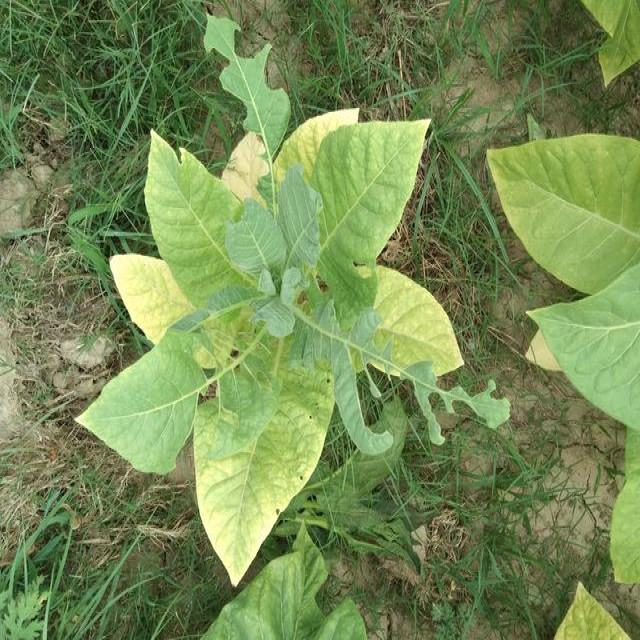crop: (69, 9, 469, 581)
